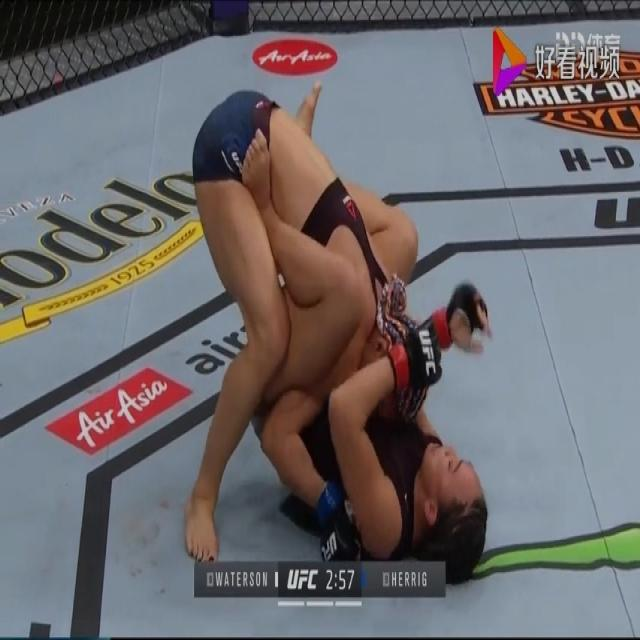fight: (154, 68, 512, 579)
